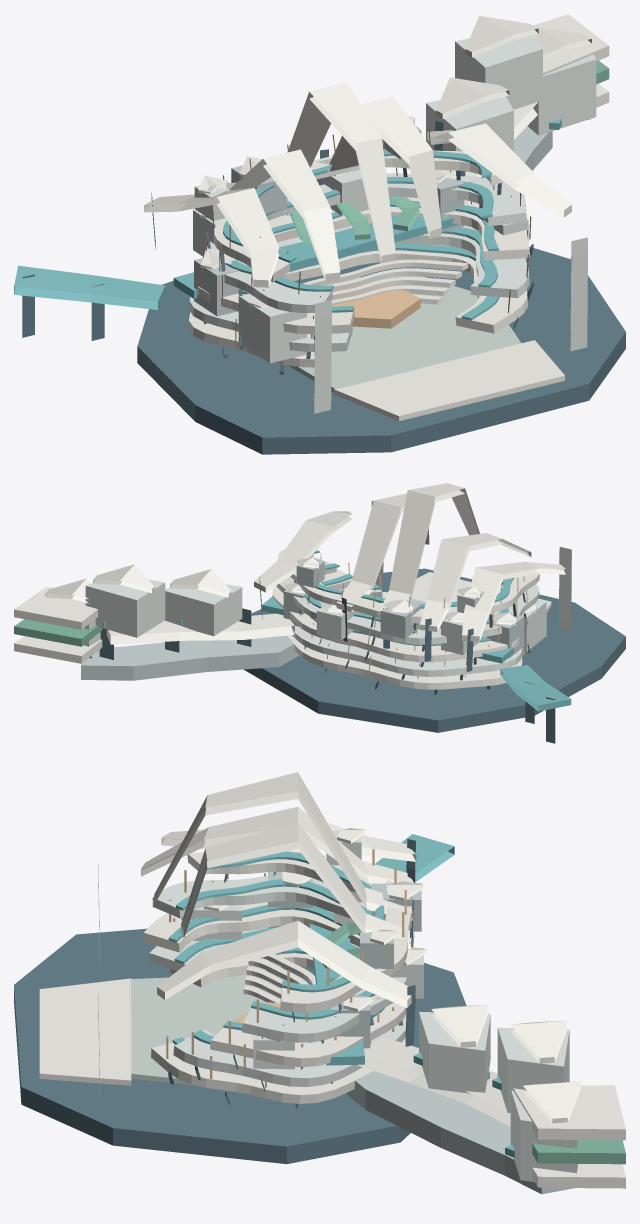
File: J7R8_GUI_RESCULPTED_ACTUAL.glb
3 views of the same model, one above another, from view 1: azimuth 30°, elevation 25°; view 2: azimuth 150°, elevation 25°; view 3: azimuth 270°, elevation 25° (orthographic). The views are drawn at different scales.
Visible parts, largest first — view 1: BASE_SINGLE_CIVIC_LENS_CITY_SHORE, NAVE_TRULY_OPEN_CENTRAL_ASSEMBLY, PUBLIC_ARRIVAL_FORECOURT, SIX_CIVIC_VAULT_SPINES_2, INHABITED_URBAN_TERRACE_3, INHABITED_URBAN_TERRACE_0, SIX_CIVIC_VAULT_SPINES_1, SIX_CIVIC_VAULT_SPINES_3, SIX_CIVIC_VAULT_SPINES_0, INHABITED_URBAN_TERRACE_1, UPLAND_SOCIETY_BUILDING_1, WEST_ARRIVAL_INTEGRATED_PUBLIC_SPINE (+31 smaller); view 2: BASE_SINGLE_CIVIC_LENS_CITY_SHORE, INTEGRATED_CITY_SPUR_THICK_PUBLIC_GROUND, SIX_CIVIC_VAULT_SPINES_2, UPLAND_SOCIETY_BUILDING_1, INHABITED_URBAN_TERRACE_1, SIX_CIVIC_VAULT_SPINES_1, SIX_CIVIC_VAULT_SPINES_3, UPLAND_SOCIETY_BUILDING_0, INHABITED_URBAN_TERRACE_0, INHABITED_URBAN_TERRACE_2, INTEGRATED_UPLAND_CIVIC_HIGH_STREET, SIX_CIVIC_VAULT_SPINES_0 (+22 smaller); view 3: BASE_SINGLE_CIVIC_LENS_CITY_SHORE, PUBLIC_ARRIVAL_FORECOURT, INTEGRATED_CITY_SPUR_THICK_PUBLIC_GROUND, NAVE_TRULY_OPEN_CENTRAL_ASSEMBLY, INHABITED_URBAN_TERRACE_2, INHABITED_URBAN_TERRACE_3, SIX_CIVIC_VAULT_SPINES_5, SIX_CIVIC_VAULT_SPINES_3, SIX_CIVIC_VAULT_SPINES_2, INHABITED_URBAN_TERRACE_0, INHABITED_URBAN_TERRACE_1, UPLAND_SOCIETY_BUILDING_0 (+24 smaller).
Part boxes in pixels (x1,y1,x2,y2): BASE_SINGLE_CIVIC_LENS_CITY_SHORE: [137, 246, 625, 454]; NAVE_TRULY_OPEN_CENTRAL_ASSEMBLY: [288, 276, 520, 392]; PUBLIC_ARRIVAL_FORECOURT: [333, 340, 564, 420]; SIX_CIVIC_VAULT_SPINES_2: [271, 82, 395, 262]; INHABITED_URBAN_TERRACE_3: [204, 173, 526, 312]; INHABITED_URBAN_TERRACE_0: [188, 244, 527, 367]; SIX_CIVIC_VAULT_SPINES_1: [227, 149, 340, 281]; SIX_CIVIC_VAULT_SPINES_3: [317, 96, 441, 238]; SIX_CIVIC_VAULT_SPINES_0: [144, 188, 279, 287]; INHABITED_URBAN_TERRACE_1: [189, 222, 529, 351]; UPLAND_SOCIETY_BUILDING_1: [455, 35, 542, 109]; WEST_ARRIVAL_INTEGRATED_PUBLIC_SPINE: [14, 265, 165, 309]; BASE_SINGLE_CIVIC_LENS_CITY_SHORE: [244, 568, 625, 732]; INTEGRATED_CITY_SPUR_THICK_PUBLIC_GROUND: [81, 635, 299, 680]; SIX_CIVIC_VAULT_SPINES_2: [378, 483, 483, 619]; UPLAND_SOCIETY_BUILDING_1: [85, 579, 165, 637]; INHABITED_URBAN_TERRACE_1: [291, 584, 522, 676]; SIX_CIVIC_VAULT_SPINES_1: [420, 533, 531, 631]; SIX_CIVIC_VAULT_SPINES_3: [336, 493, 429, 612]; UPLAND_SOCIETY_BUILDING_0: [165, 584, 242, 636]; INHABITED_URBAN_TERRACE_0: [287, 592, 524, 689]; INHABITED_URBAN_TERRACE_2: [272, 568, 519, 662]; INTEGRATED_UPLAND_CIVIC_HIGH_STREET: [106, 613, 294, 644]; SIX_CIVIC_VAULT_SPINES_0: [462, 561, 566, 641]; BASE_SINGLE_CIVIC_LENS_CITY_SHORE: [14, 928, 466, 1164]; PUBLIC_ARRIVAL_FORECOURT: [39, 978, 131, 1085]; INTEGRATED_CITY_SPUR_THICK_PUBLIC_GROUND: [346, 1071, 574, 1194]; NAVE_TRULY_OPEN_CENTRAL_ASSEMBLY: [129, 974, 281, 1085]; INHABITED_URBAN_TERRACE_2: [143, 902, 413, 1067]; INHABITED_URBAN_TERRACE_3: [152, 876, 414, 1042]; SIX_CIVIC_VAULT_SPINES_5: [157, 920, 415, 1007]; SIX_CIVIC_VAULT_SPINES_3: [181, 822, 411, 949]; SIX_CIVIC_VAULT_SPINES_2: [152, 772, 412, 920]; INHABITED_URBAN_TERRACE_0: [151, 953, 405, 1103]; INHABITED_URBAN_TERRACE_1: [149, 927, 406, 1087]; UPLAND_SOCIETY_BUILDING_0: [419, 1011, 490, 1093].
Size of the model in its own units: 2155 by 776 by 1670.
